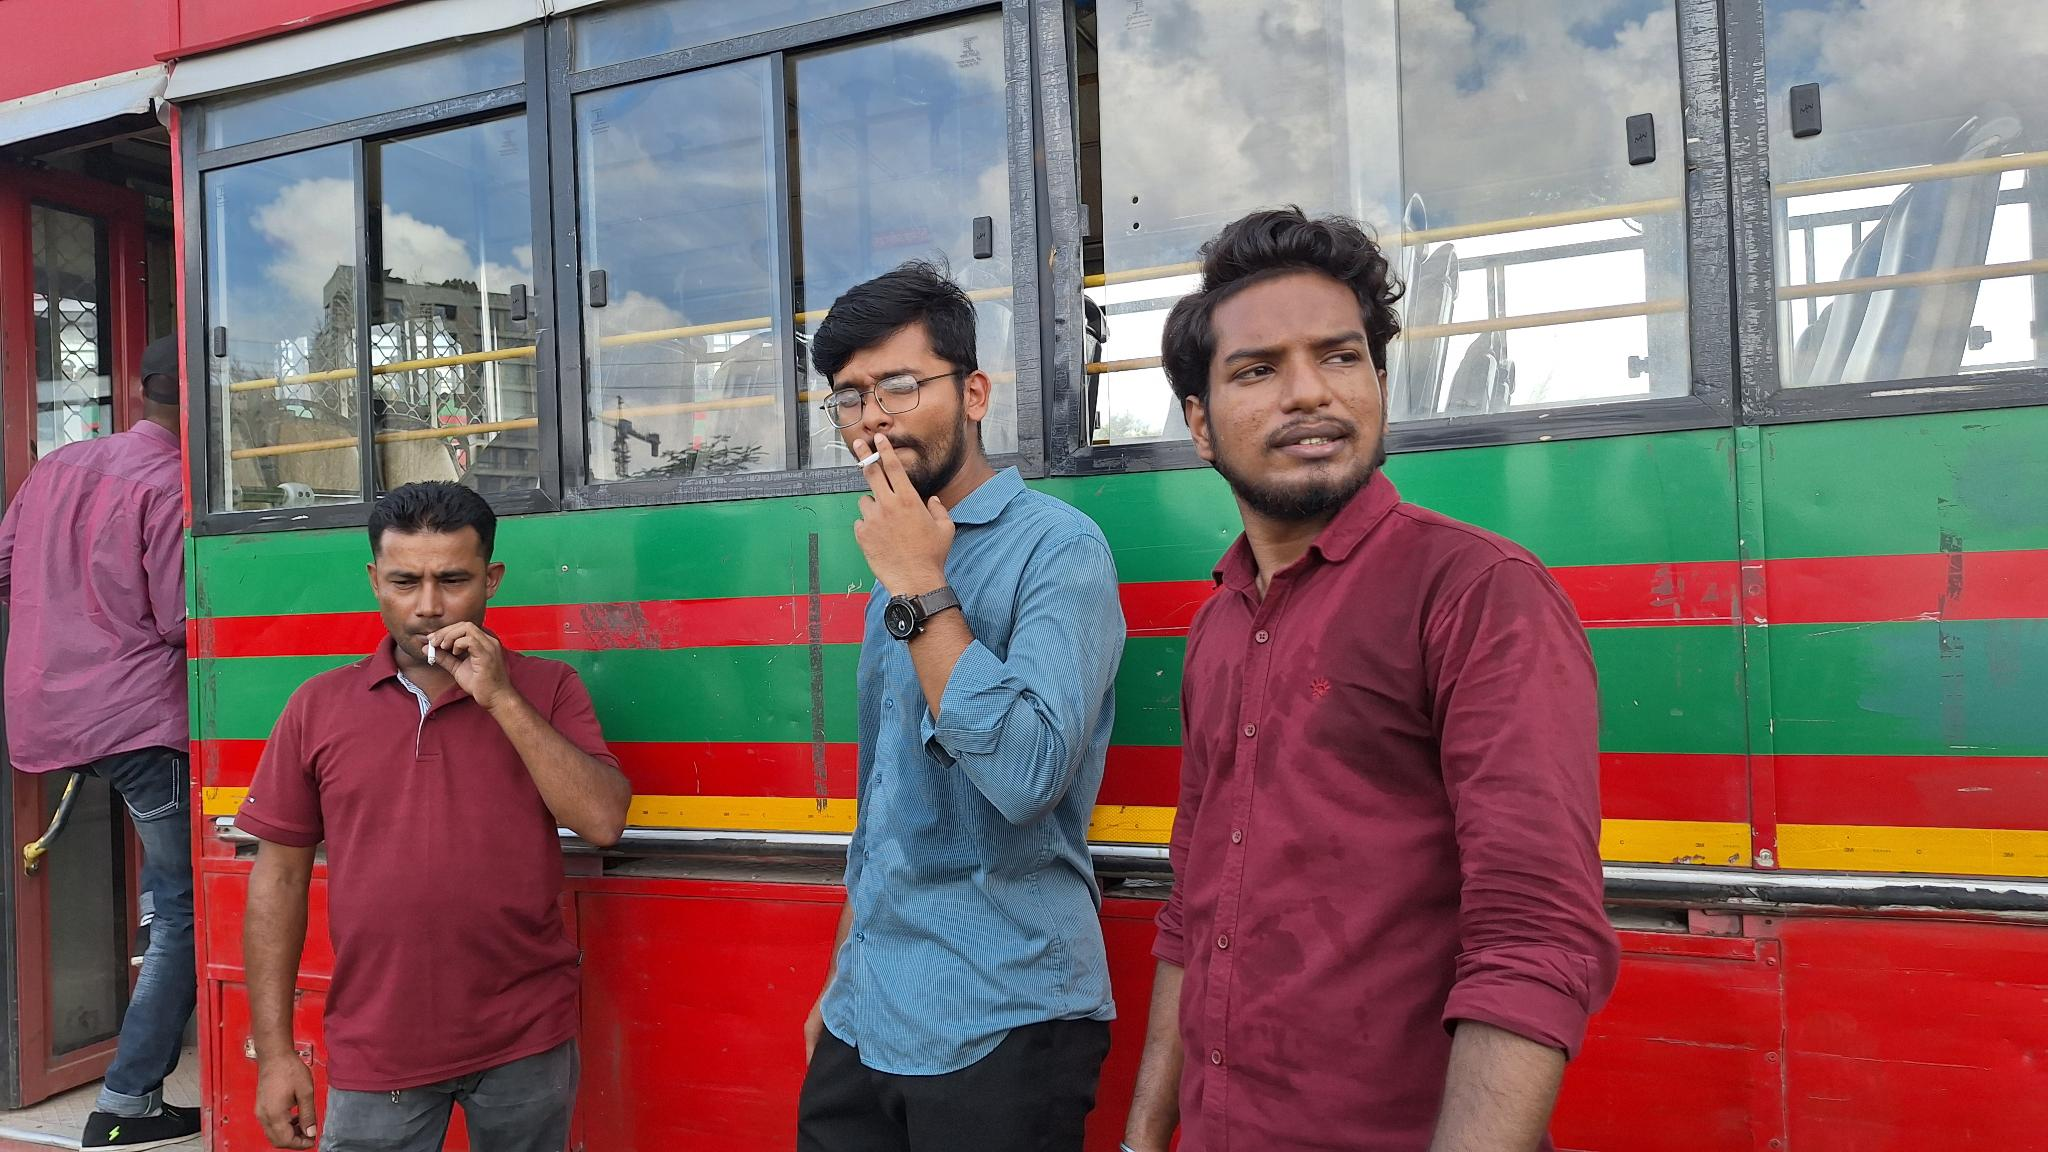cigarette: (855, 452, 883, 473), (425, 637, 439, 668)
nonSmoker: (1122, 217, 1620, 1152), (0, 328, 196, 1152)
smoker: (792, 264, 1127, 1152), (232, 481, 634, 1152)
